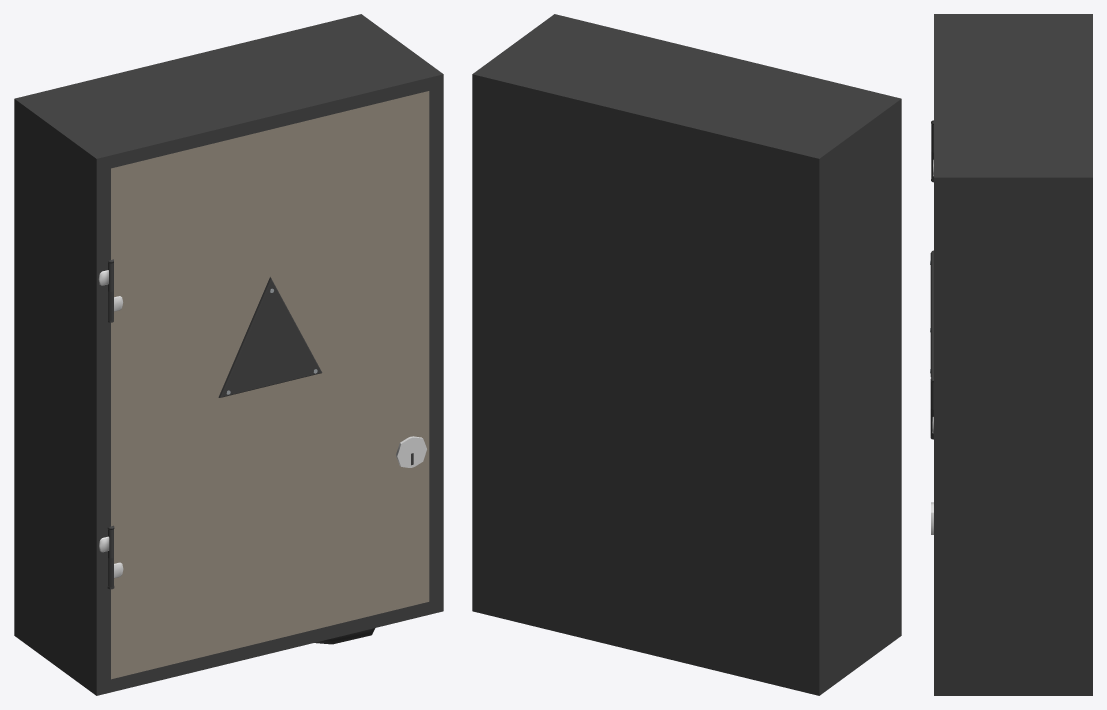
Rendered from QuadroDeLuz.fbx.
The picture shows the model from 3 angles, left to right: view 1: azimuth 30°, elevation 25°; view 2: azimuth 150°, elevation 25°; view 3: azimuth 270°, elevation 25°; orthographic projection. The views are drawn at different scales.
Parts seen in each view (by area): view 1: QuadroDLuzPorta, QuadroDluz; view 2: QuadroDluz; view 3: QuadroDluz, QuadroDLuzPorta.
Part boxes in pixels (x1,y1,x2,y2): QuadroDLuzPorta: [107, 91, 429, 679]; QuadroDluz: [14, 14, 443, 695]; QuadroDluz: [472, 14, 901, 695]; QuadroDluz: [930, 14, 1092, 695]; QuadroDLuzPorta: [930, 152, 933, 534].
Size of the model in its own units: 21.55 by 32.65 by 9.08.
